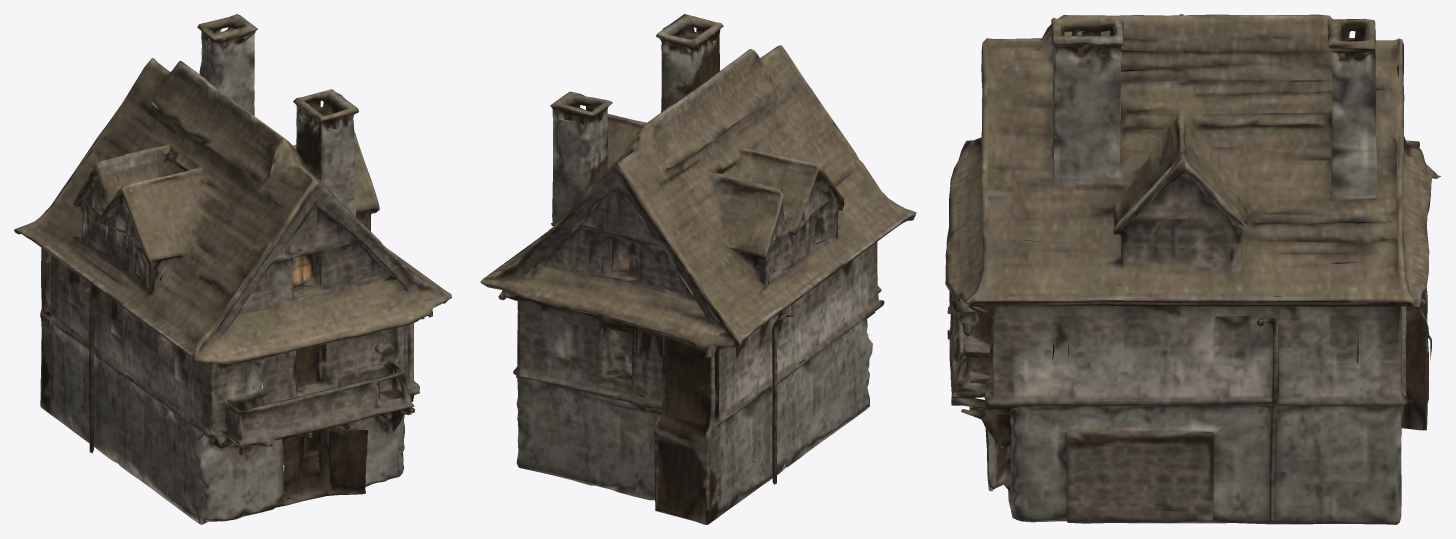
File: house_two_storey_dormer.glb
3 views of the same model, side by side, from view 1: azimuth 30°, elevation 25°; view 2: azimuth 150°, elevation 25°; view 3: azimuth 270°, elevation 25° (orthographic). The views are drawn at different scales.
Visible parts, largest first — view 1: house_two_storey_dormer; view 2: house_two_storey_dormer; view 3: house_two_storey_dormer.
Boxes of the visible parts, x1,y1,x2,y2 form: house_two_storey_dormer: [14, 14, 451, 524]; house_two_storey_dormer: [480, 14, 916, 524]; house_two_storey_dormer: [945, 14, 1440, 524].
Size of the model in its own units: 7.46 by 10 by 9.62.
Materials: 1 (1 with a texture image).
